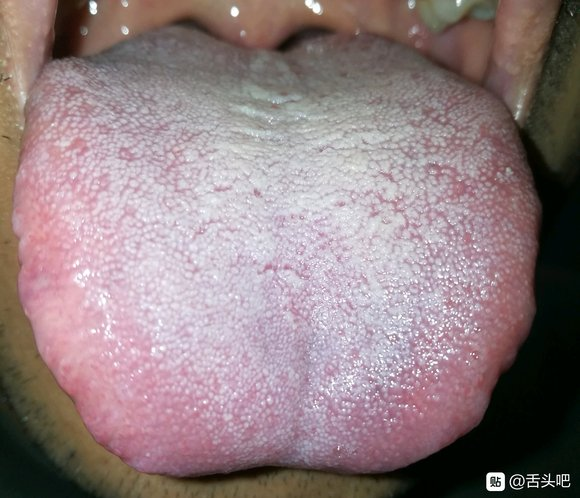baitaishe: (12, 24, 539, 478)
huataishe: (460, 323, 486, 369)
pangdashe: (12, 24, 539, 478)
shenquao: (173, 24, 365, 67)
xinfeiao: (171, 430, 376, 478)
